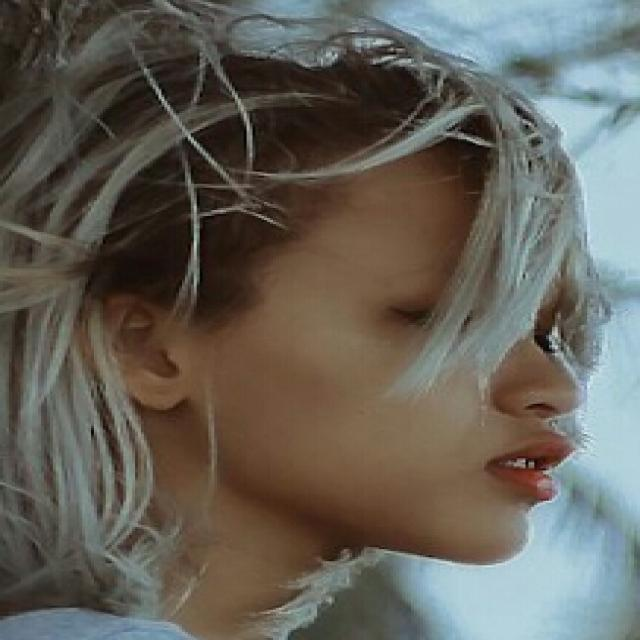front: (195, 217, 640, 530)
